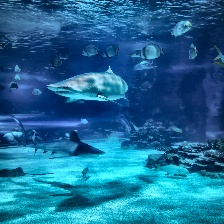shark: (69, 130, 105, 156)
